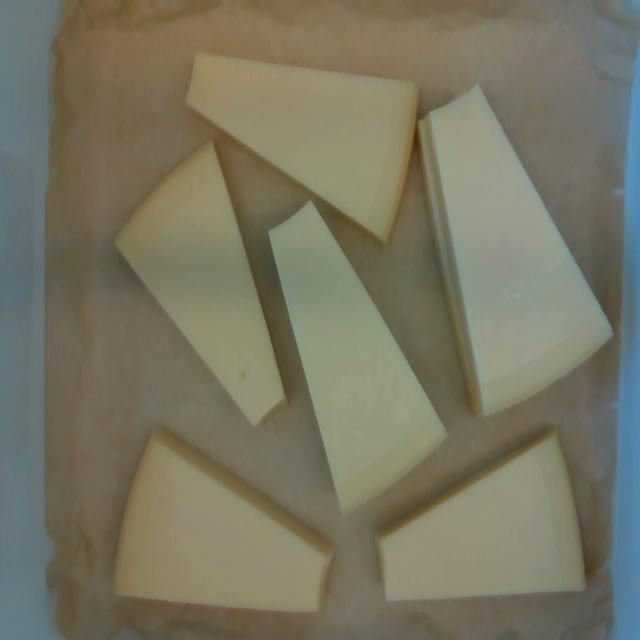Cheese: (420, 88, 610, 415), (270, 201, 445, 508), (117, 143, 285, 424), (188, 56, 416, 239), (116, 435, 329, 611), (379, 436, 583, 599)
